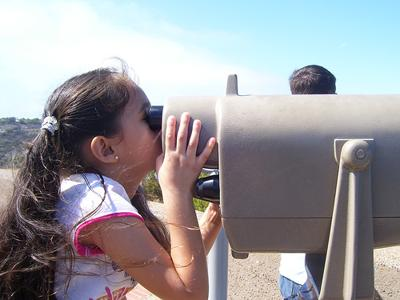person: (2, 68, 223, 299)
